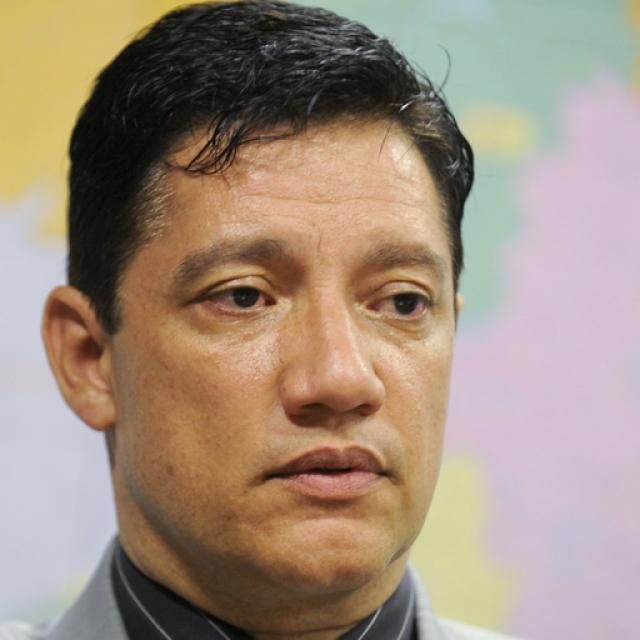sad: (117, 123, 455, 588)
